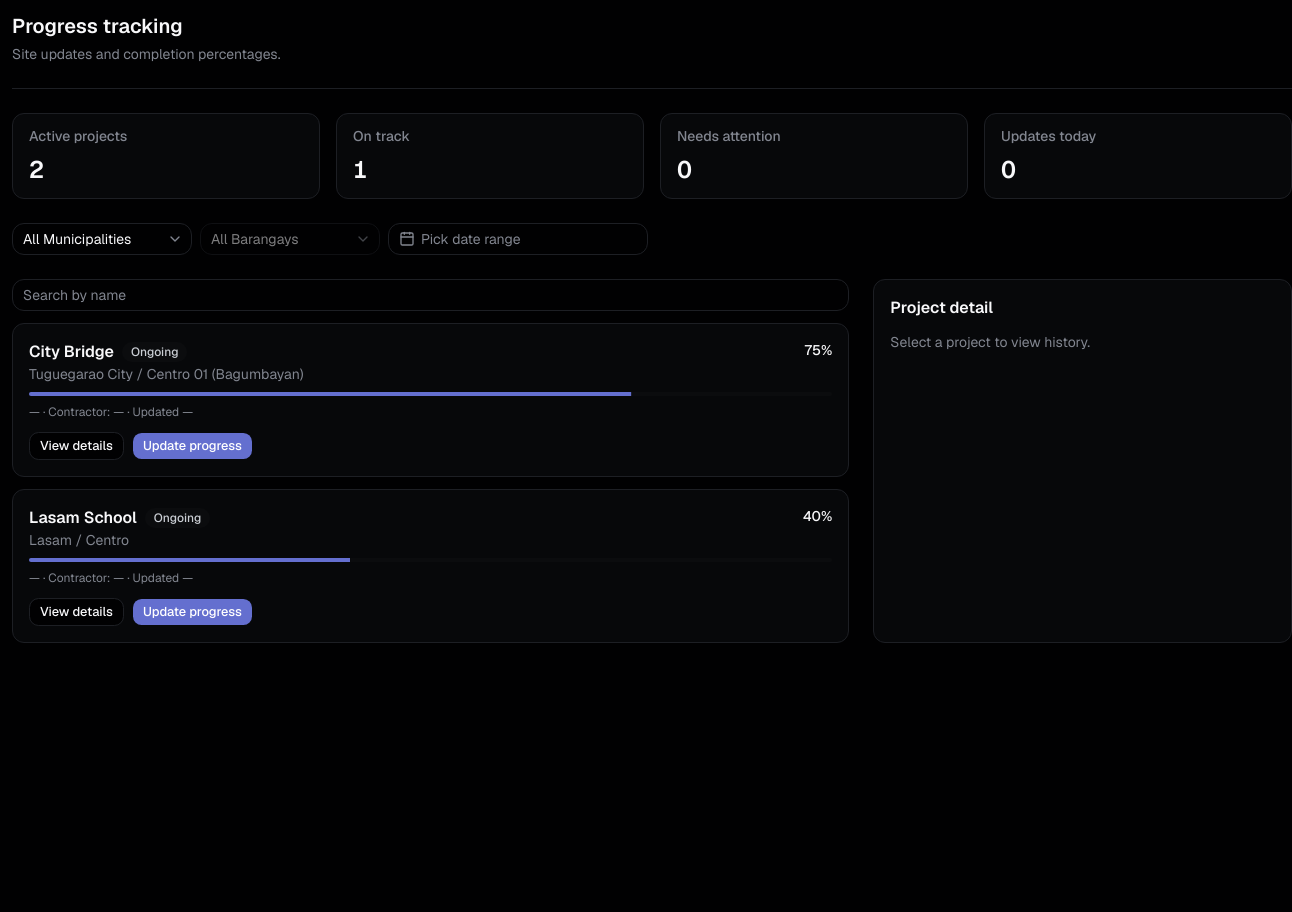
Scenario: ProgressModule (V81, V84) › filters the progress list by search as the user types
Check: the heading "City Bridge" is shown, box [29,340,114,364]
Check: the heading "Lasam School" is shown, box [29,506,137,530]
In the field named "search projects": (431, 295) [12,279,849,311], type "Bridge"
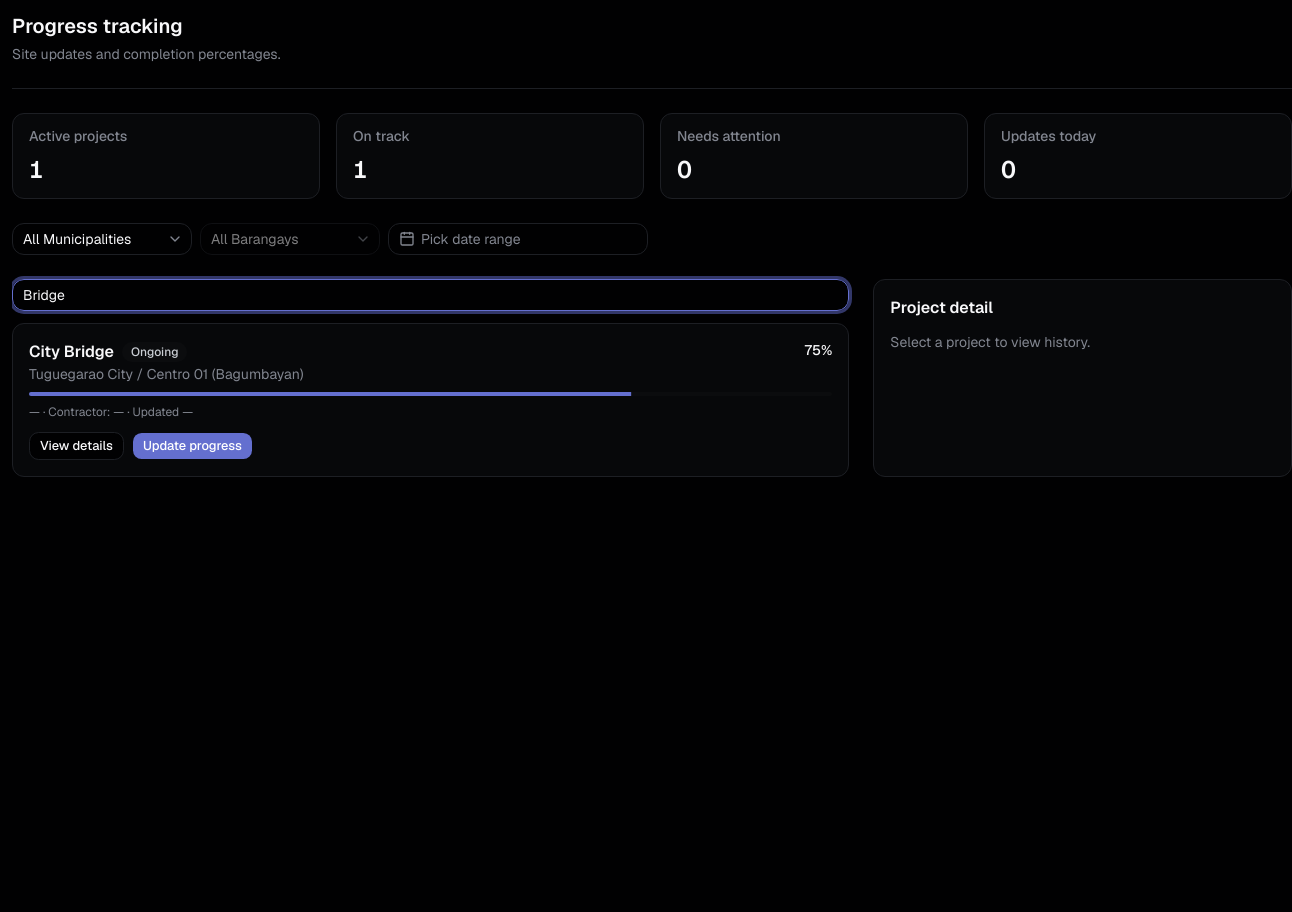
Check: the heading "City Bridge" is shown, box [29,340,114,364]
Check: the heading "Lasam School" is gone
Clear the field named "search projects": (431, 295) [12,279,849,311]
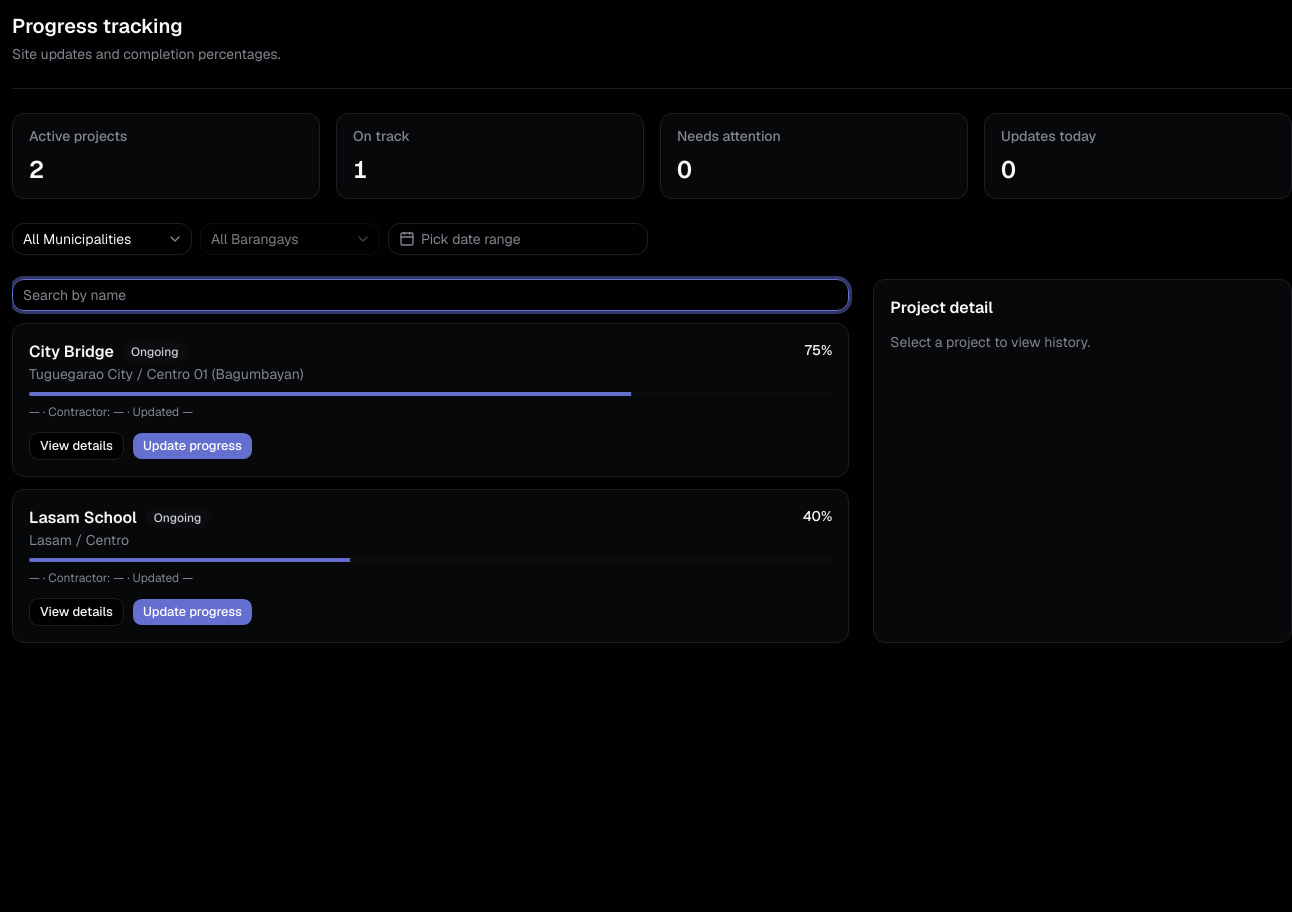
Check: the heading "Lasam School" is shown, box [29,506,137,530]
